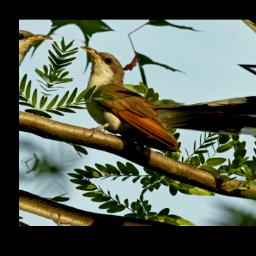Cuckoo: (50, 44, 256, 180)
